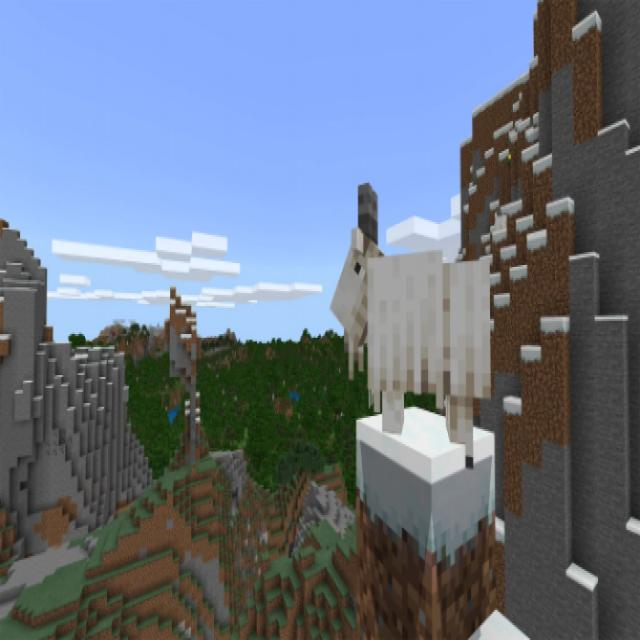Goat: (329, 180, 496, 473)
